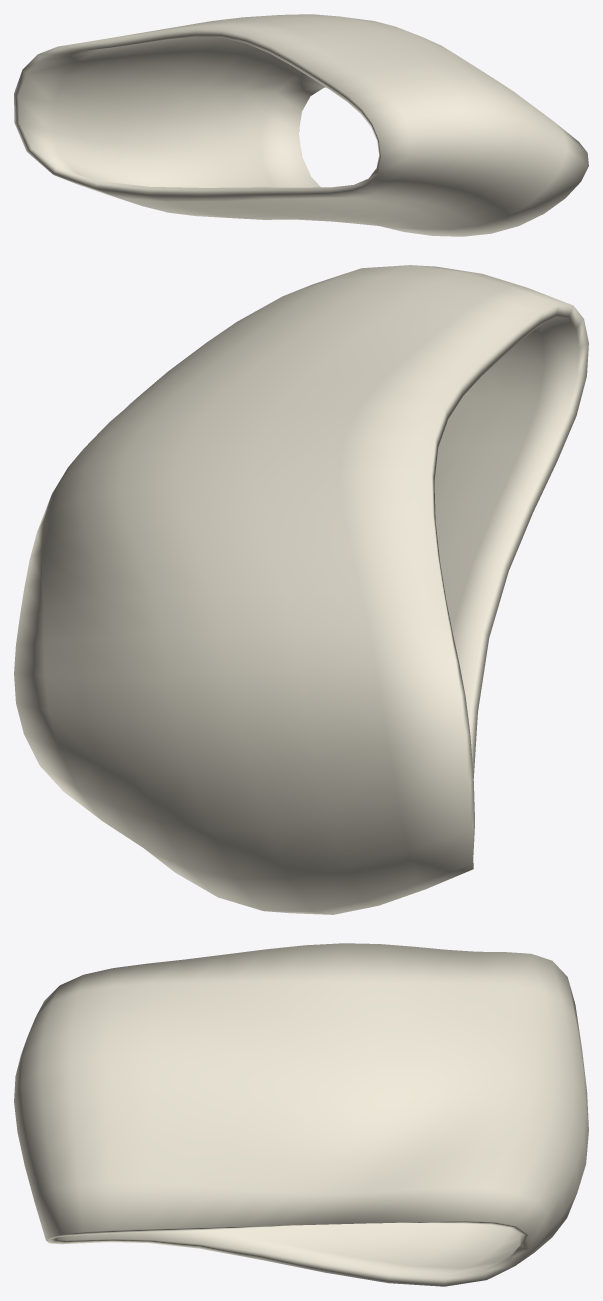
3 views of the same model, one above another, from view 1: azimuth 30°, elevation 25°; view 2: azimuth 150°, elevation 25°; view 3: azimuth 270°, elevation 25° (orthographic). The views are drawn at different scales.
Visible parts, largest first — view 1: ZA_dc43980918a6118d; view 2: ZA_dc43980918a6118d; view 3: ZA_dc43980918a6118d.
Part boxes in pixels (left/top/right/bottom): ZA_dc43980918a6118d: left=14, top=14, right=588, bottom=236; ZA_dc43980918a6118d: left=14, top=265, right=588, bottom=914; ZA_dc43980918a6118d: left=14, top=943, right=588, bottom=1286.
Bounding box in the file's own units: 0.027 × 0.0161 × 0.0292.
